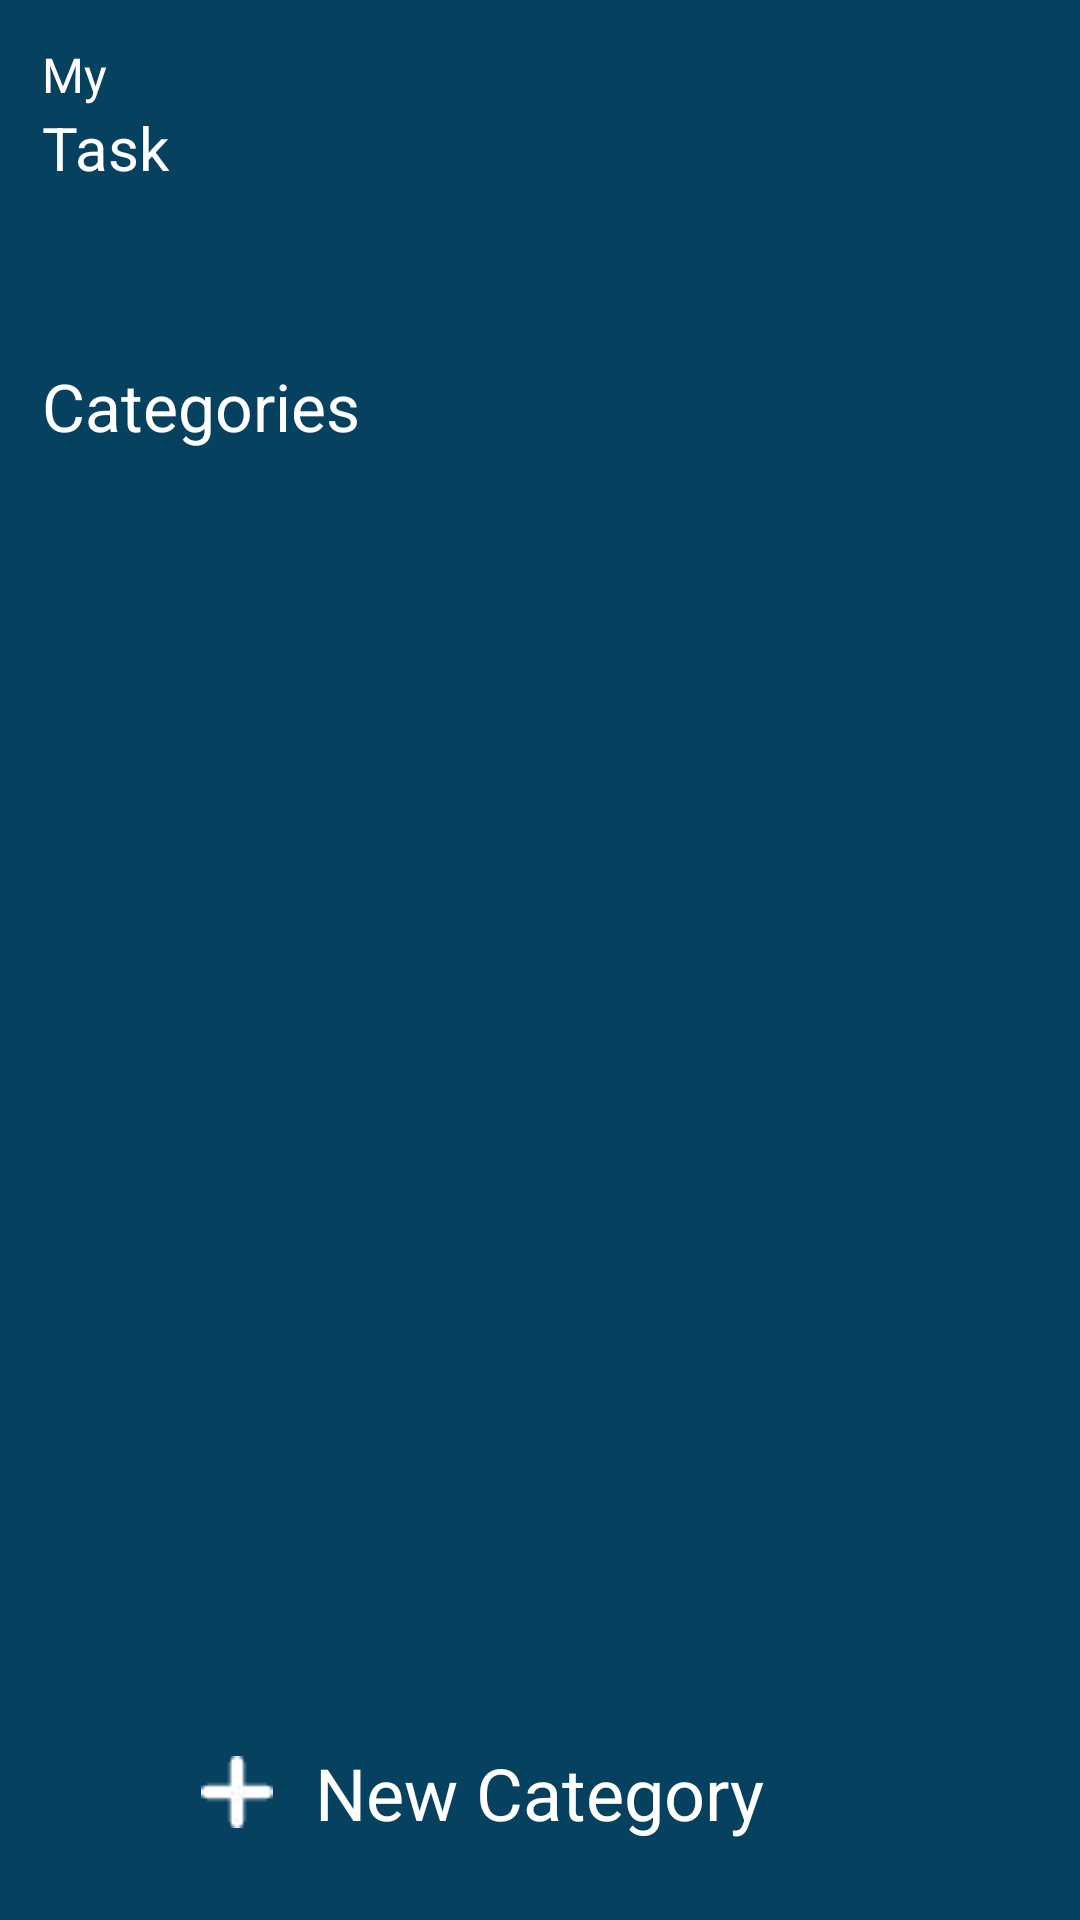

Icons on this 1080px×1920px Android screen, each with its box as BBox(x1, y1, x2, y2):
add: BBox(201, 1756, 273, 1828)
